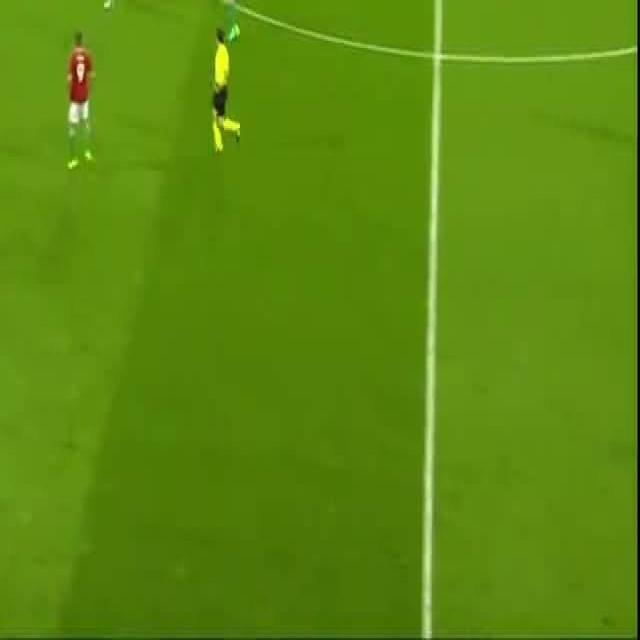player-white: (66, 31, 96, 169), (213, 26, 241, 151), (218, 0, 243, 39), (103, 0, 125, 9)
